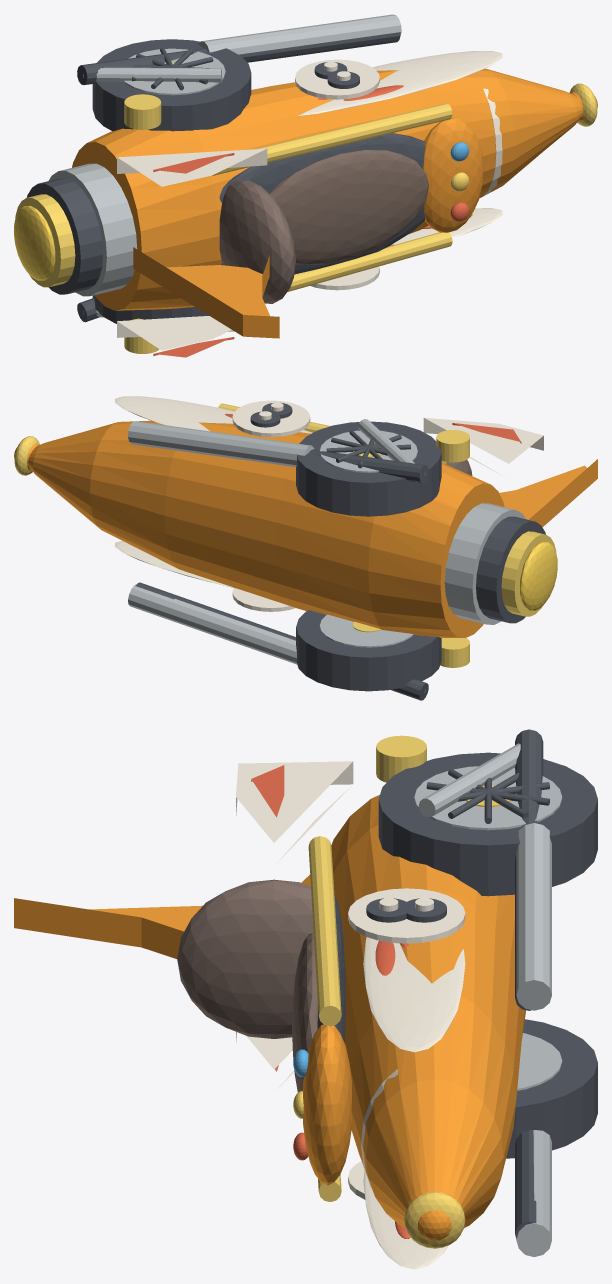
File: retro.glb
3 views of the same model, one above another, from view 1: azimuth 30°, elevation 25°; view 2: azimuth 150°, elevation 25°; view 3: azimuth 270°, elevation 25° (orthographic). The views are drawn at different scales.
Visible parts, largest first — view 1: 01_Main_Orange_Body, 06_Seat_Cushion, Wheel_Rubber_1, 05_Seat_Back, Tall_Tail_Fin, Rear_Engine_-1.47, 07_Control_Console, 04_Cockpit_Black_Opening, Cream_Side_Panel_1, Rear_Engine_-1.65, Chrome_Exhaust_1, Cockpit_Rim_1 (+18 smaller); view 2: 01_Main_Orange_Body, Wheel_Rubber_1, Wheel_Rubber_-1, Chrome_Exhaust_1, Rear_Engine_-1.47, Chrome_Exhaust_-1, Rear_Engine_-1.65, Tall_Tail_Fin, Cream_Side_Panel_1, Side_Fin_1, Engine_Glow, Rear_Engine_-1.78 (+12 smaller); view 3: 01_Main_Orange_Body, 05_Seat_Back, Wheel_Rubber_1, Cream_Side_Panel_1, Wheel_Rubber_-1, Chrome_Exhaust_1, 07_Control_Console, Tall_Tail_Fin, Side_Fin_1, Cockpit_Rim_1, Number_Background_1, Wheel_Rim_1 (+14 smaller).
Part boxes in pixels (x1=…): 01_Main_Orange_Body: x1=72, y1=68, x2=582, y2=310; 06_Seat_Cushion: x1=270, y1=150, x2=428, y2=264; Wheel_Rubber_1: x1=92, y1=39, x2=251, y2=131; 05_Seat_Back: x1=219, y1=180, x2=295, y2=303; Tall_Tail_Fin: x1=133, y1=247, x2=279, y2=338; Rear_Engine_-1.47: x1=48, y1=163, x2=137, y2=296; 07_Control_Console: x1=423, y1=118, x2=483, y2=232; 04_Cockpit_Black_Opening: x1=219, y1=133, x2=425, y2=274; Cream_Side_Panel_1: x1=298, y1=51, x2=502, y2=116; Rear_Engine_-1.65: x1=26, y1=178, x2=103, y2=294; Chrome_Exhaust_1: x1=198, y1=14, x2=401, y2=54; Cockpit_Rim_1: x1=212, y1=103, x2=452, y2=175; 01_Main_Orange_Body: x1=28, y1=420, x2=504, y2=638; Wheel_Rubber_1: x1=296, y1=421, x2=441, y2=516; Wheel_Rubber_-1: x1=296, y1=610, x2=441, y2=691; Chrome_Exhaust_1: x1=128, y1=421, x2=314, y2=466; Rear_Engine_-1.47: x1=444, y1=503, x2=525, y2=624; Chrome_Exhaust_-1: x1=128, y1=584, x2=297, y2=664; Rear_Engine_-1.65: x1=476, y1=516, x2=545, y2=623; Tall_Tail_Fin: x1=499, y1=459, x2=597, y2=527; Cream_Side_Panel_1: x1=115, y1=396, x2=312, y2=433; Side_Fin_1: x1=423, y1=417, x2=543, y2=476; Engine_Glow: x1=520, y1=542, x2=557, y2=610; Rear_Engine_-1.78: x1=501, y1=531, x2=556, y2=616; 01_Main_Orange_Body: x1=331, y1=795, x2=525, y2=1227; 05_Seat_Back: x1=177, y1=879, x2=313, y2=1038; Wheel_Rubber_1: x1=378, y1=752, x2=597, y2=896; Cream_Side_Panel_1: x1=363, y1=937, x2=465, y2=1052; Wheel_Rubber_-1: x1=506, y1=1019, x2=597, y2=1158; Chrome_Exhaust_1: x1=516, y1=823, x2=551, y2=1010; 07_Control_Console: x1=302, y1=1024, x2=351, y2=1185; Tall_Tail_Fin: x1=14, y1=874, x2=310, y2=958; Side_Fin_1: x1=236, y1=761, x2=353, y2=864; Cockpit_Rim_1: x1=308, y1=836, x2=341, y2=1026; Number_Background_1: x1=348, y1=888, x2=465, y2=943; Wheel_Rim_1: x1=414, y1=766, x2=562, y2=830.
Size of the model in its own units: 3.59 by 1.53 by 2.29.
